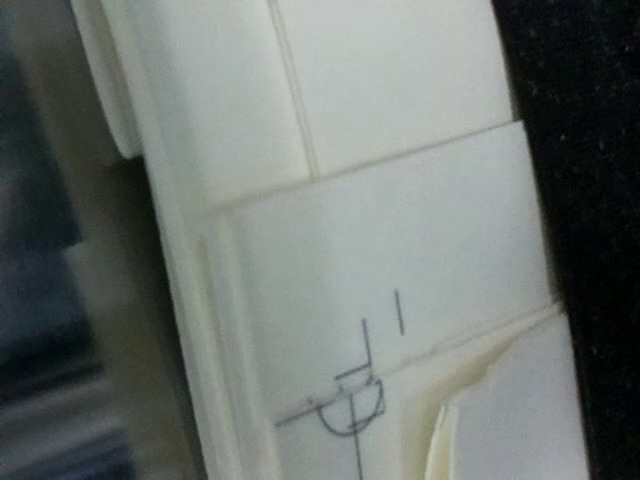misaligned: (265, 319, 409, 444)
